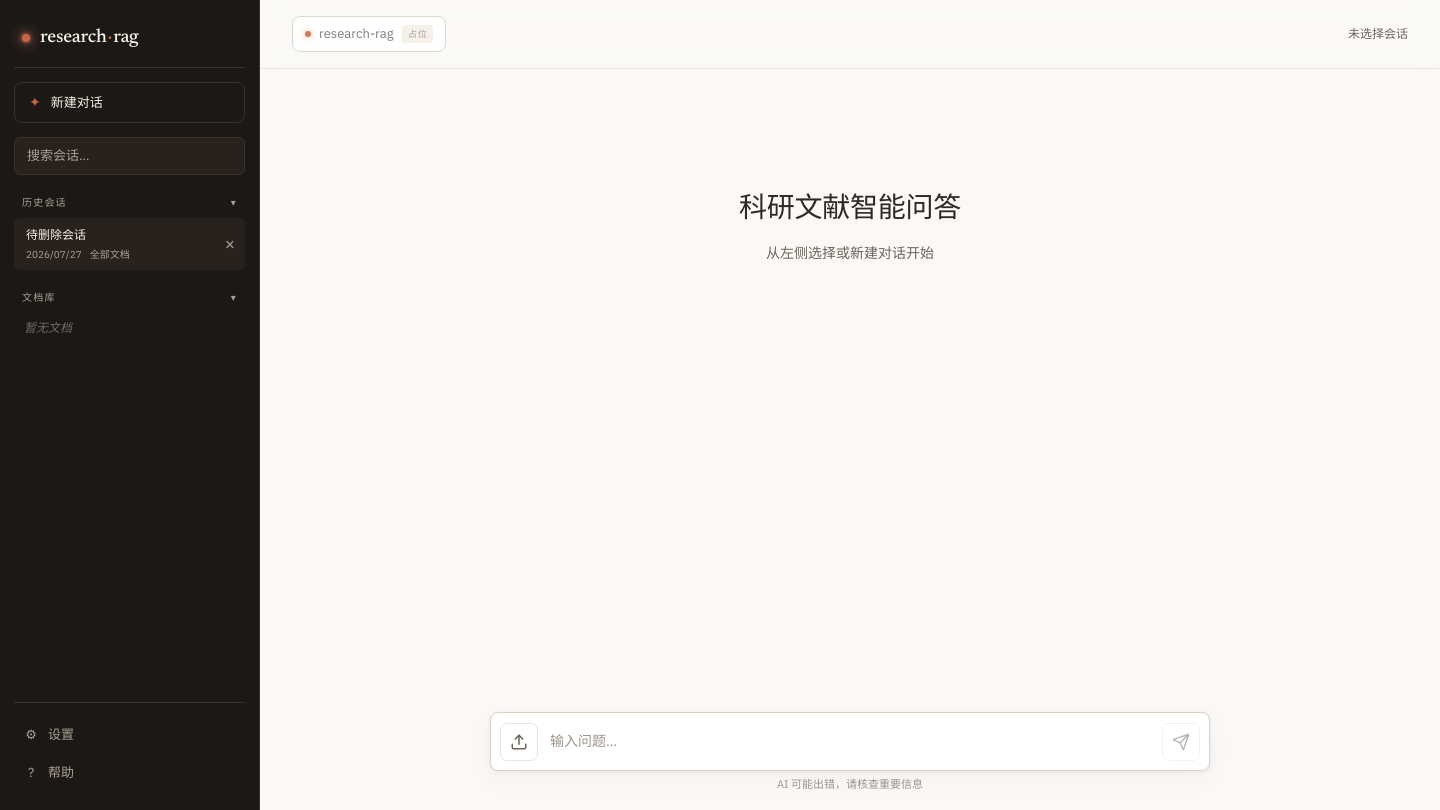
Test case: App › 删除生成中的会话前先终止请求并丢弃临时轮次
Click the button "待删除会话 2026/07/27 全部文档" at [114, 244], box [15,218,212,268]
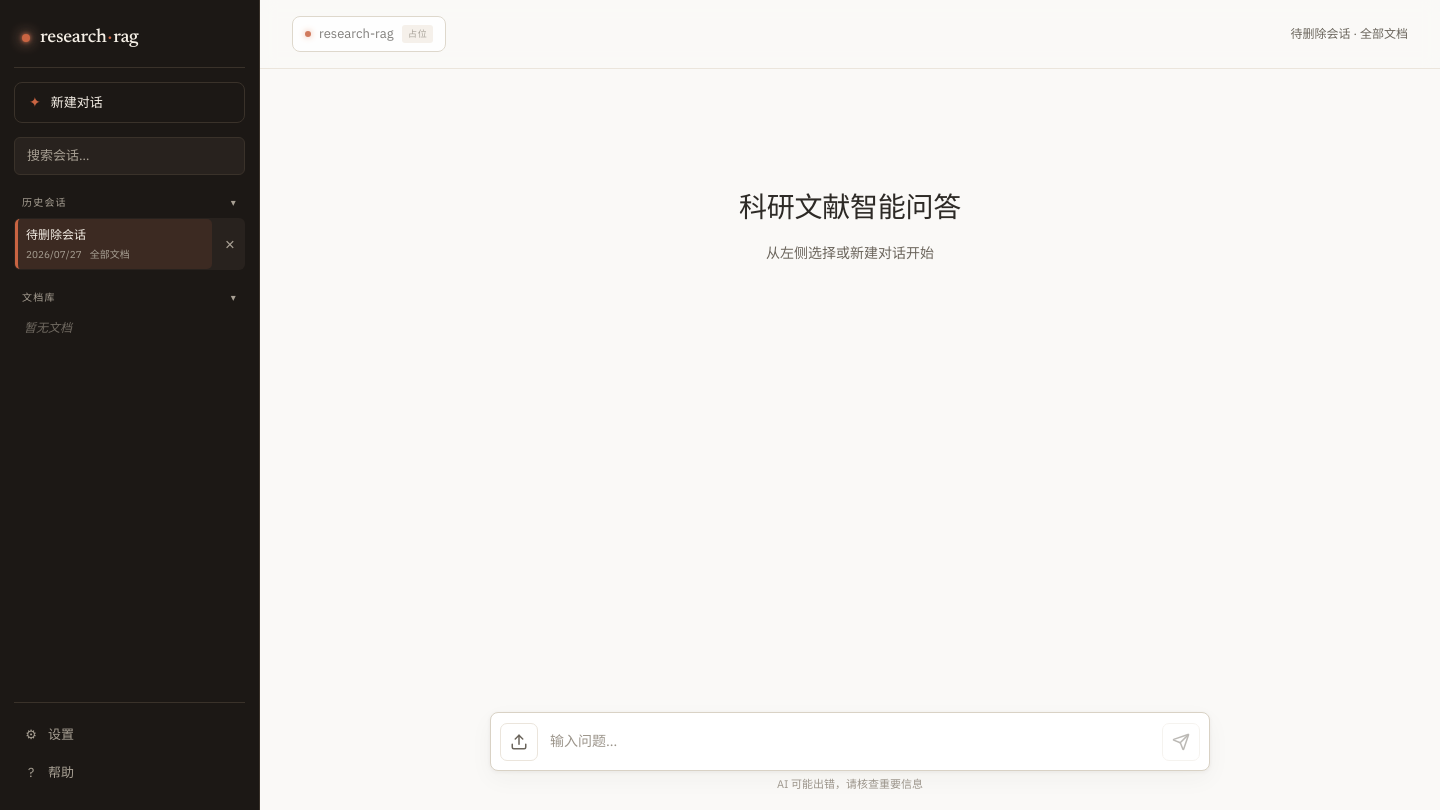
Type "不会保留的问题" into the text box named "问题输入" at [850, 741], box [546,722,1154,760]
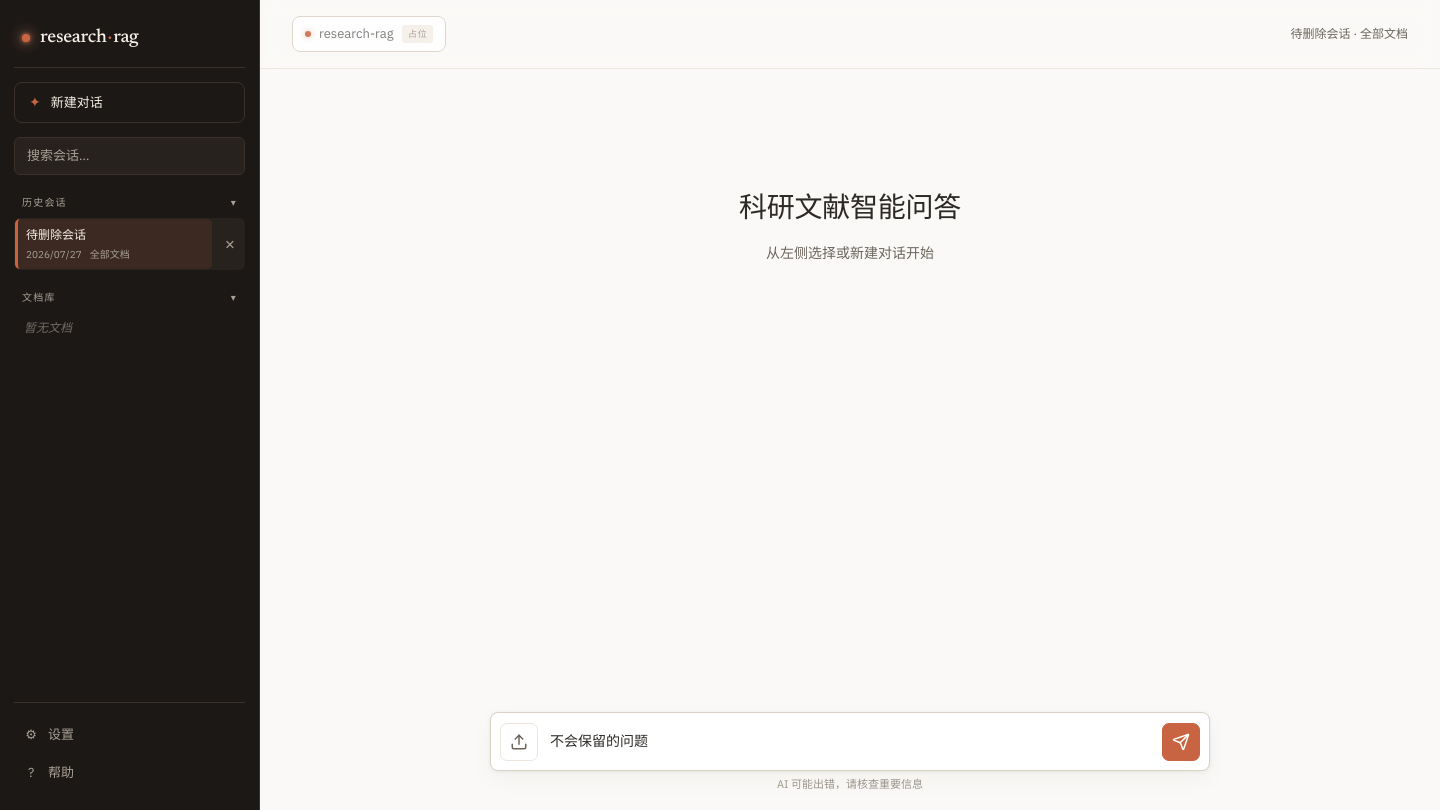
Click the button named "发送" at [1181, 742], box [1162,722,1200,760]
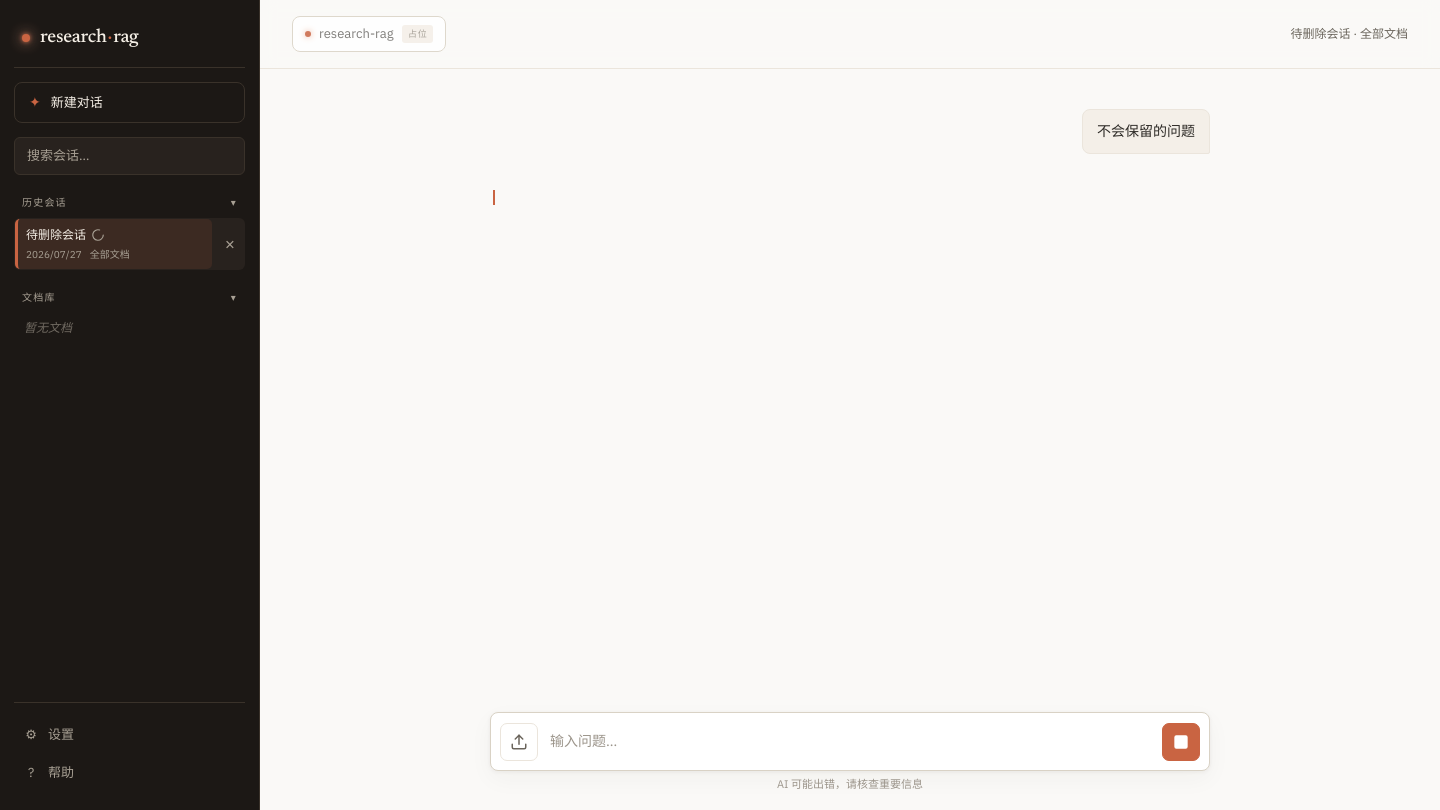
Click the button named "删除会话 待删除会话" at [230, 244], box [216,218,244,268]
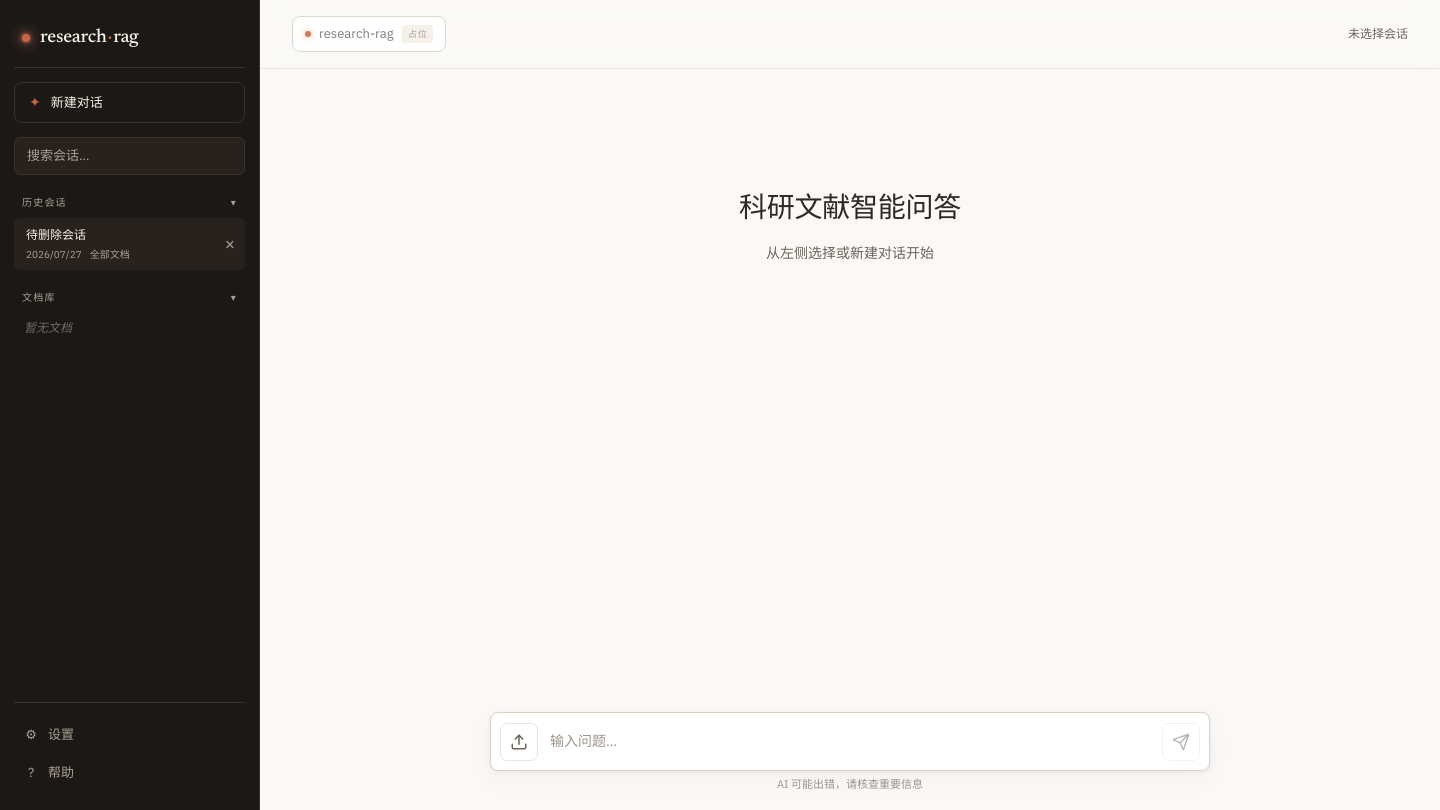
Result: the text "未选择会话" is shown at [1348,26,1408,41]
Result: the element with test id "message-user" is gone
